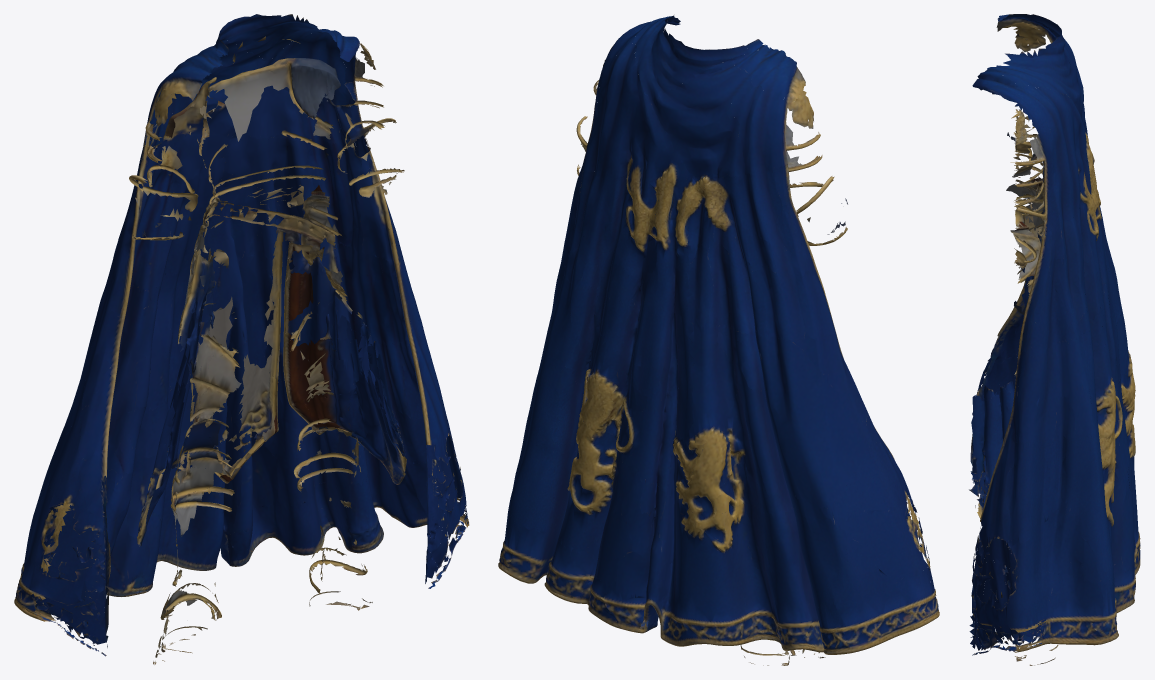
The model's file is SirAldric_PILOT_cape.fbx.
3 renders of one model, left to right at view 1: azimuth 30°, elevation 25°; view 2: azimuth 150°, elevation 25°; view 3: azimuth 270°, elevation 25°, orthographic. The views are drawn at different scales.
Parts seen in each view (by area): view 1: SirAldric_PILOT_cape; view 2: SirAldric_PILOT_cape; view 3: SirAldric_PILOT_cape.
Part boxes in pixels (x1=…): SirAldric_PILOT_cape: x1=14, y1=14, x2=469, y2=664; SirAldric_PILOT_cape: x1=498, y1=15, x2=939, y2=665; SirAldric_PILOT_cape: x1=969, y1=14, x2=1140, y2=665.
Bounding box in the file's own units: 1.13 × 1.5 × 0.3942.
1 material, 1 textured.
